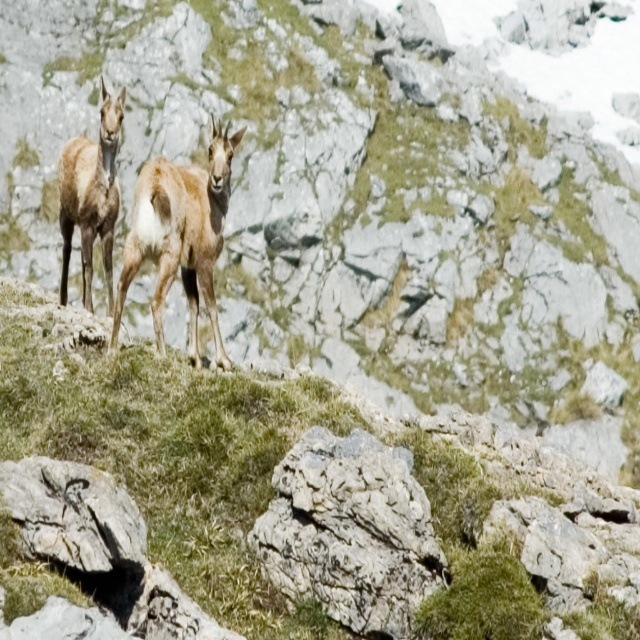Goat: (104, 109, 248, 373), (57, 75, 127, 318)
